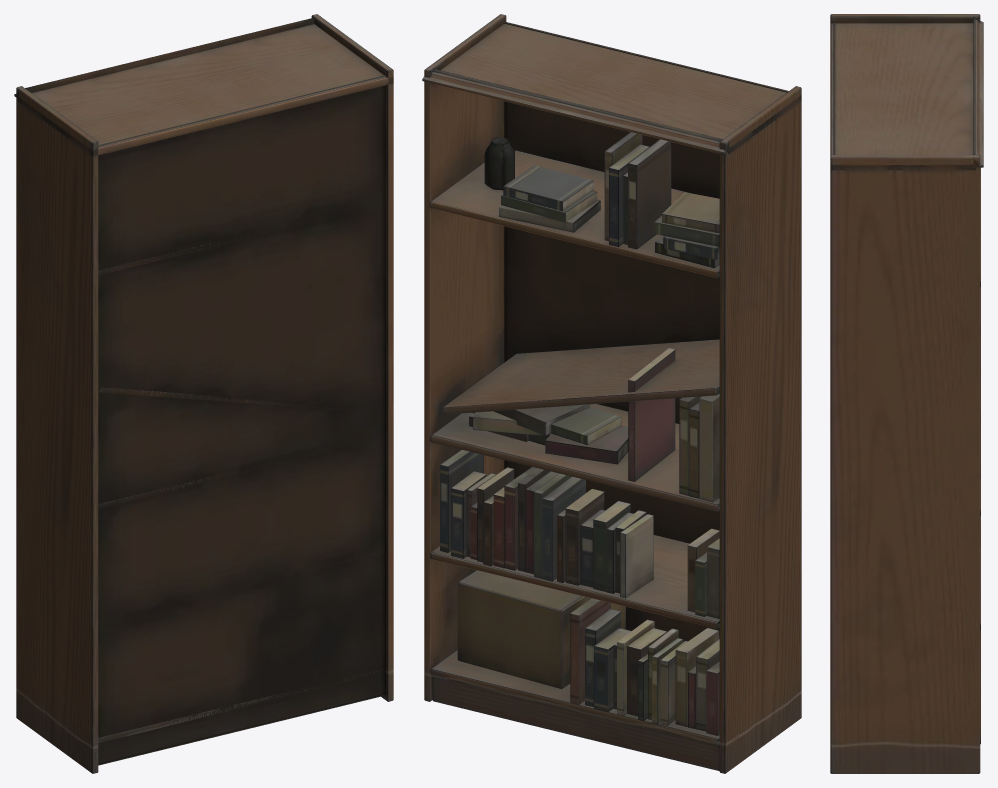
Rendered from furniture_shelf_module_b.glb.
The picture shows the model from 3 angles, left to right: view 1: azimuth 30°, elevation 25°; view 2: azimuth 150°, elevation 25°; view 3: azimuth 270°, elevation 25°; orthographic projection. The views are drawn at different scales.
Parts seen in each view (by area): view 1: furniture_shelf_module_b; view 2: furniture_shelf_module_b; view 3: furniture_shelf_module_b.
Part boxes in pixels (box(x1,y1,x2,y2)): furniture_shelf_module_b: box(14, 14, 393, 773); furniture_shelf_module_b: box(422, 14, 801, 773); furniture_shelf_module_b: box(830, 14, 983, 773).
Size of the model in its own units: 1 by 2 by 0.45.
1 material, 1 textured.
